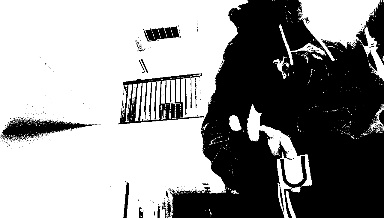U: (275, 153, 308, 186)
